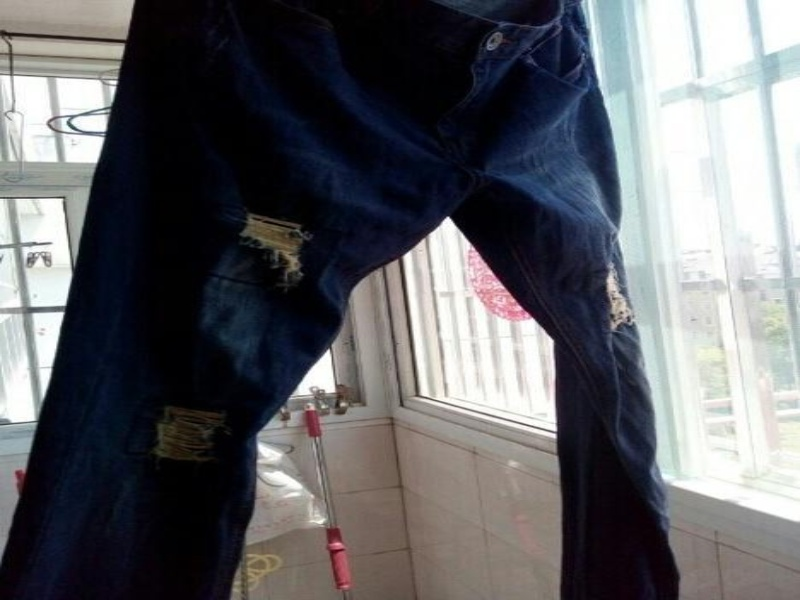trousers: (0, 0, 696, 599)
